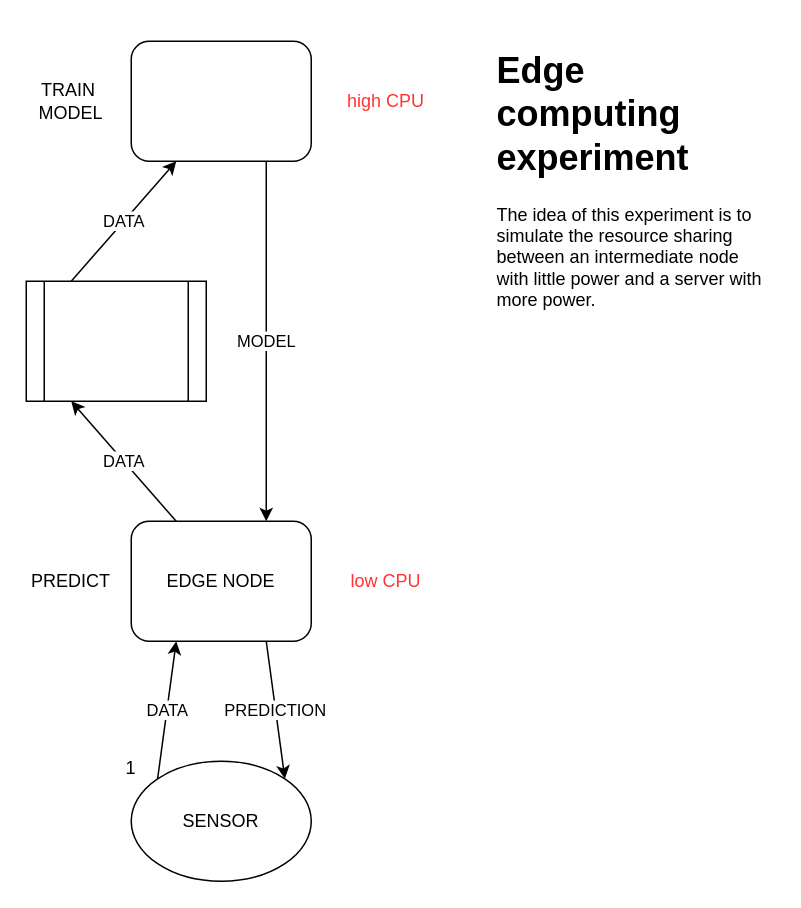
Image size: 801x908. Some labels were removed from this diagram. The shapes that lost their labels are listed below. From the top down, each one's centre as x and y in pixels, then its label:
At (x=220, y=100): "APP PREDICTION".
At (x=115, y=340): "SERVER".
